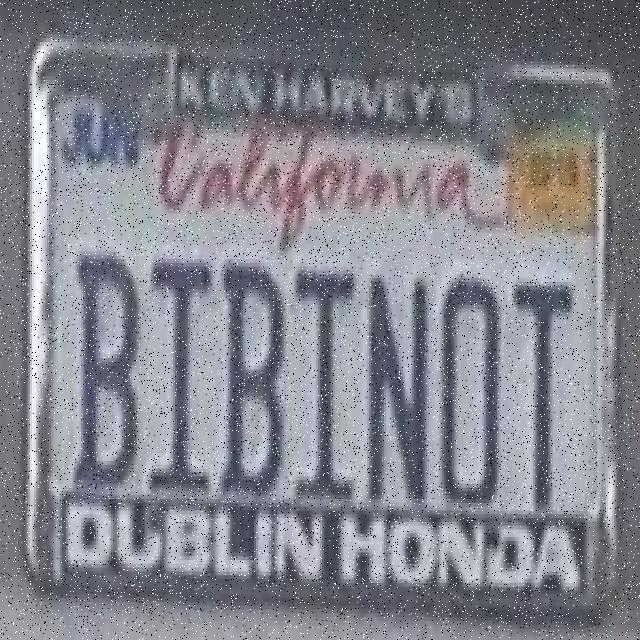licenseplate: (26, 23, 620, 608)
